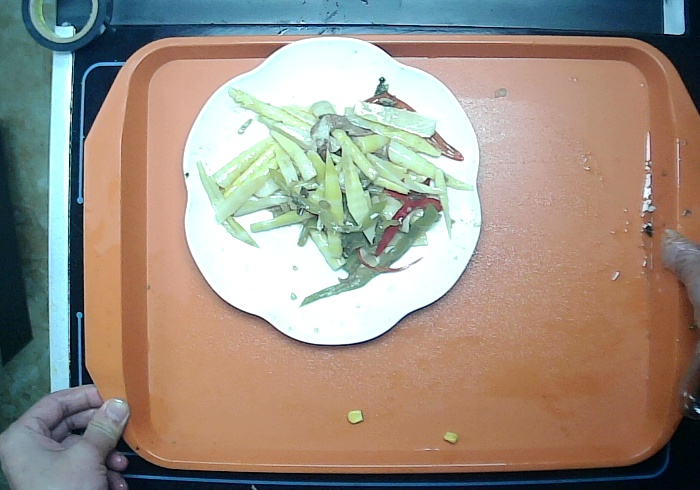HZYJPL-Bai_Se_Hua_Duo_Wan: (180, 34, 484, 347)
